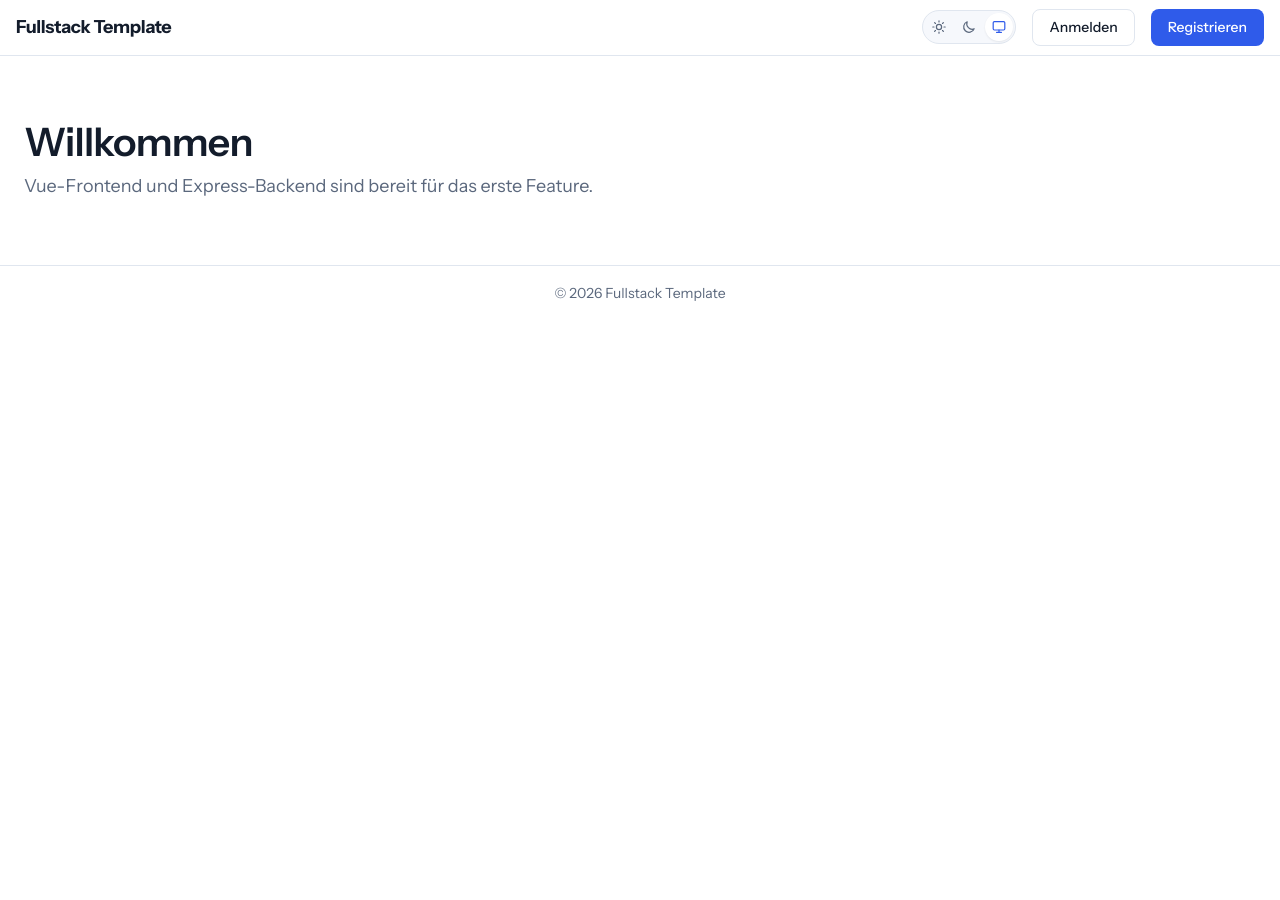
App › navigiert zur Anmeldung
The image size is (1280, 900).
Click the button "Anmelden": point(1084, 27) [1032,9,1135,46]
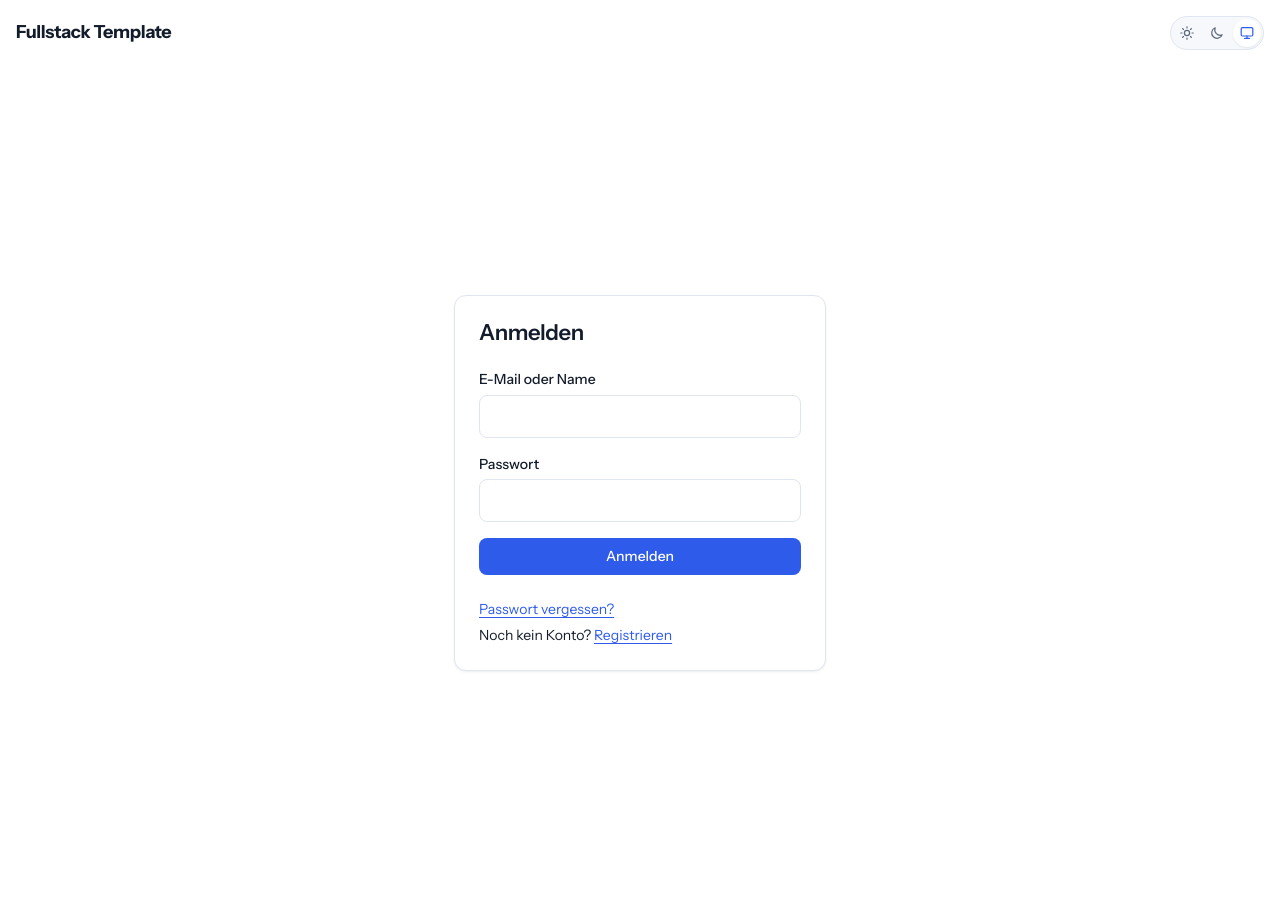
expect the element with class "auth-layout" is shown: met
